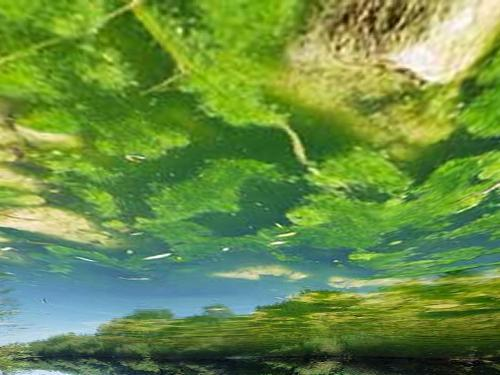Eutrophication Pollution: (4, 4, 500, 259)
